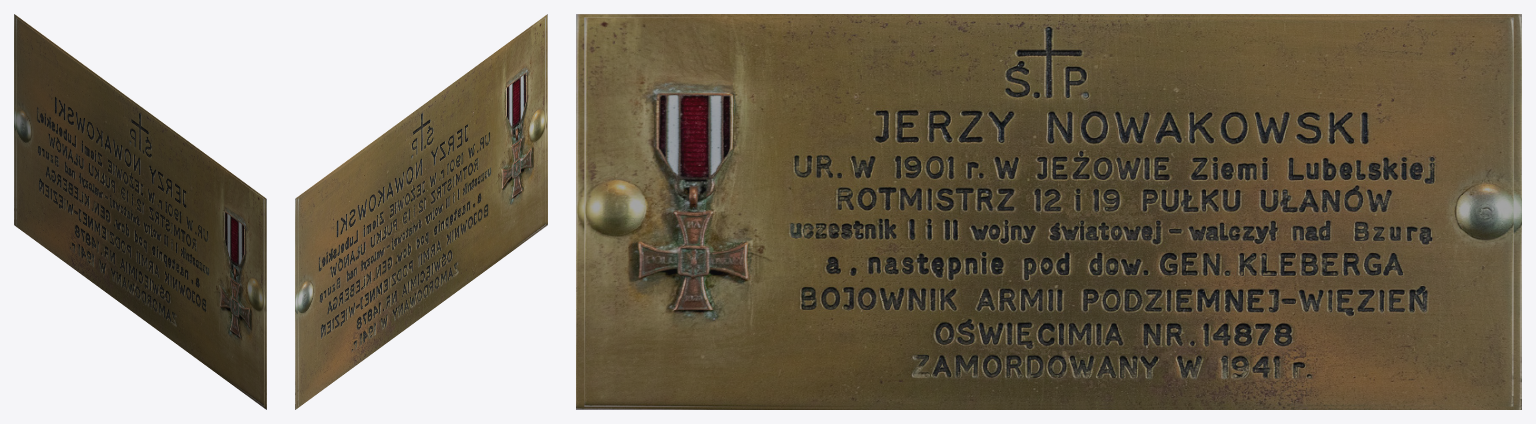
File: 18. ŚP. JERZY NOWAKOWSKI.glb
The picture shows the model from 3 angles, left to right: view 1: azimuth 30°, elevation 25°; view 2: azimuth 150°, elevation 25°; view 3: azimuth 270°, elevation 25°; orthographic projection. The views are drawn at different scales.
Parts seen in each view (by area): view 1: Plane; view 2: Plane; view 3: Plane.
Boxes of the visible parts, left/top/right/bottom form: Plane: left=14, top=14, right=266, bottom=409; Plane: left=295, top=14, right=547, bottom=409; Plane: left=576, top=14, right=1521, bottom=409.
Size of the model in its own units: 0.0246 by 6 by 13.
1 material, 1 textured.
